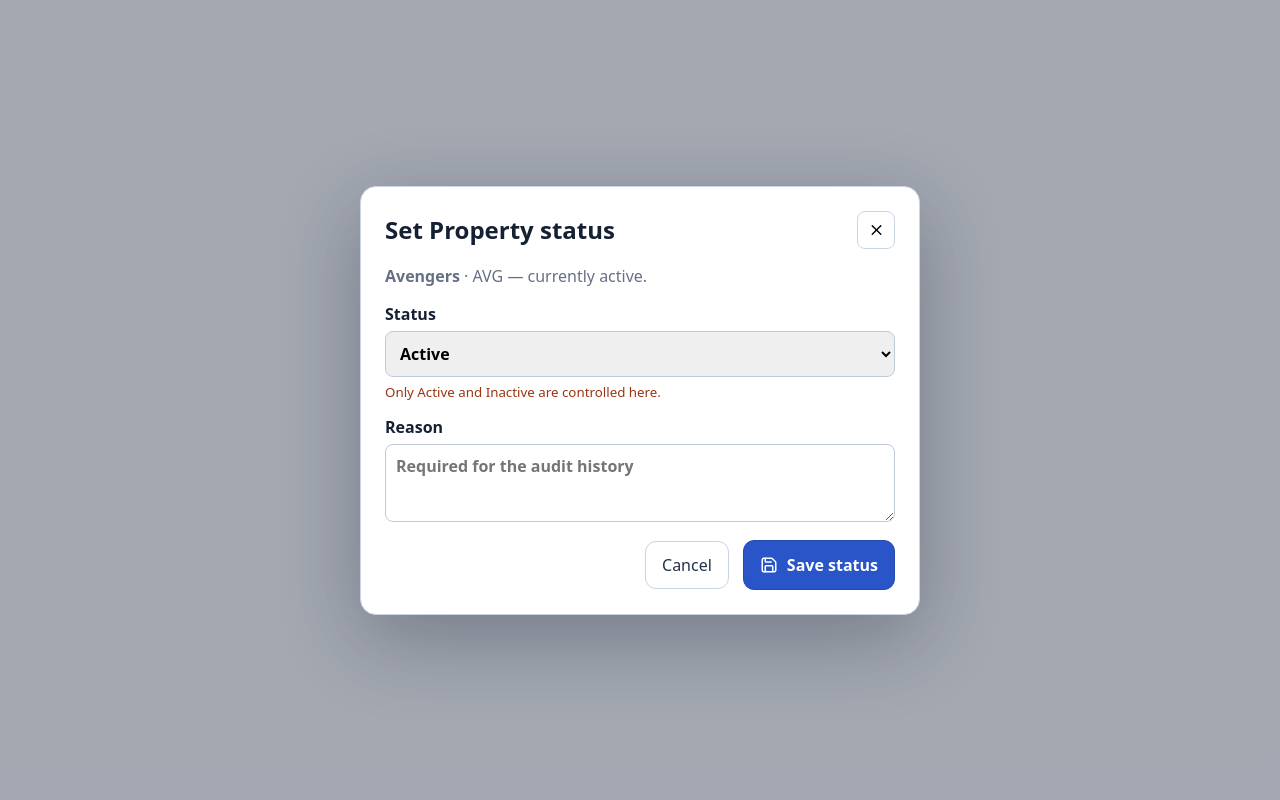
Scenario: PropertyStatusDialog › offers only Active and Inactive and requires a reason
Expected: the dropdown labelled "Status Only Active and Inactive are controlled here." shows "Active", [385,330,895,376]
Click the button "Save status" at (819, 564), box [743,540,895,590]
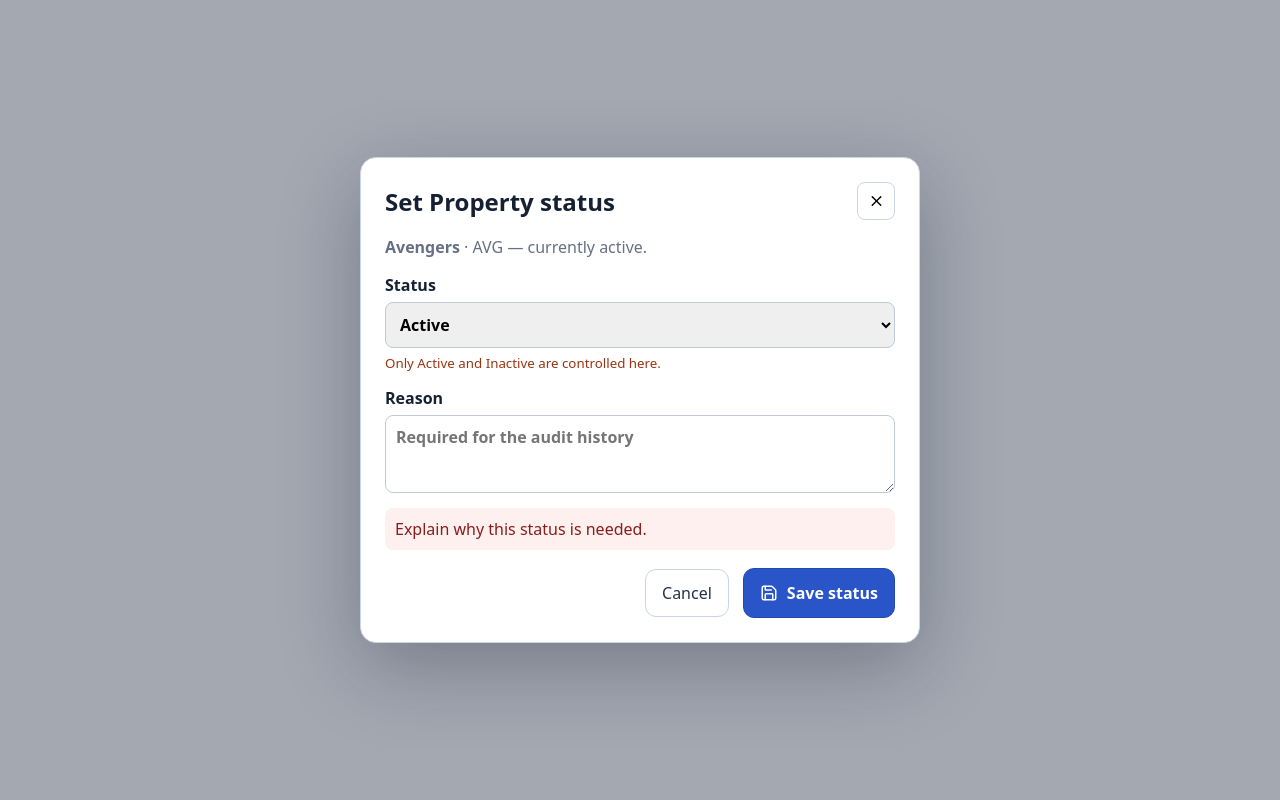
Expected: the message reads "Explain why this status is needed.", [395,518,647,540]
